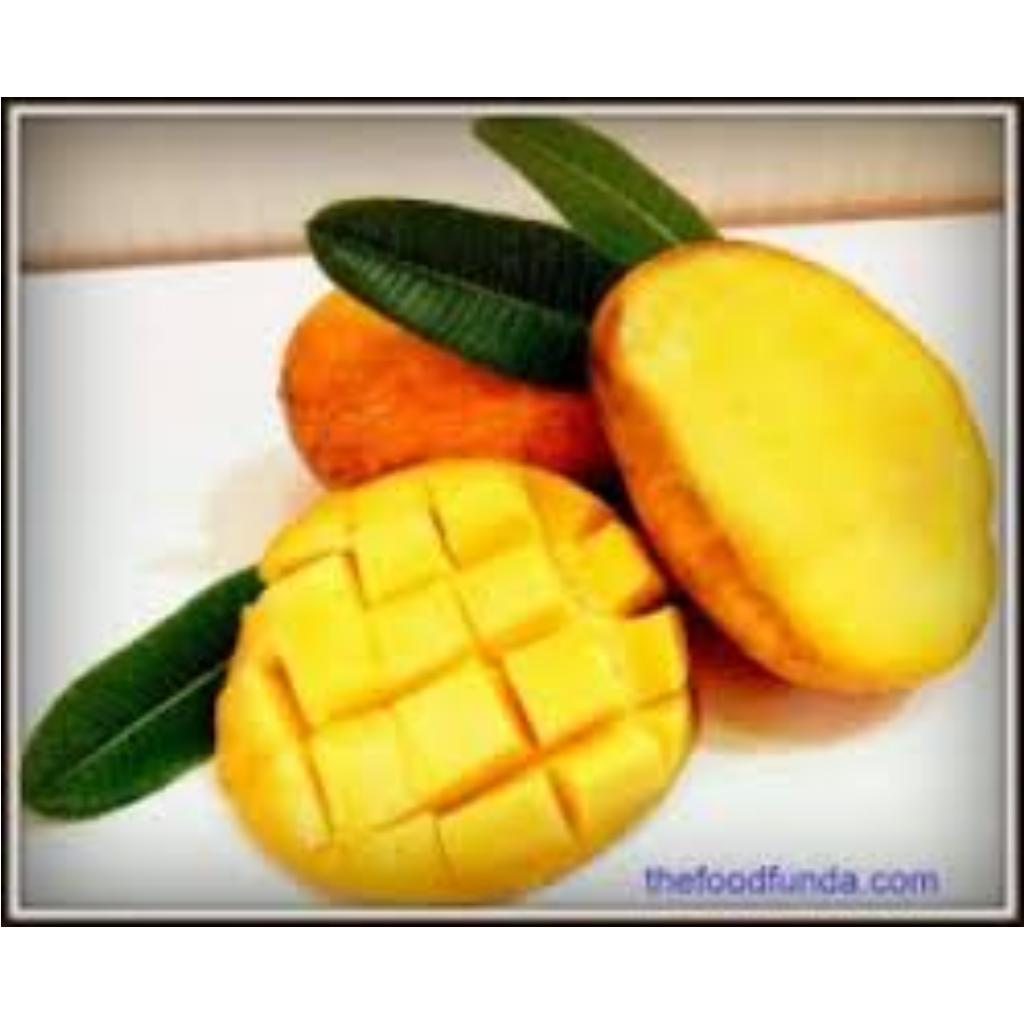mango: (214, 459, 699, 907), (604, 237, 1003, 673), (281, 291, 594, 491)
